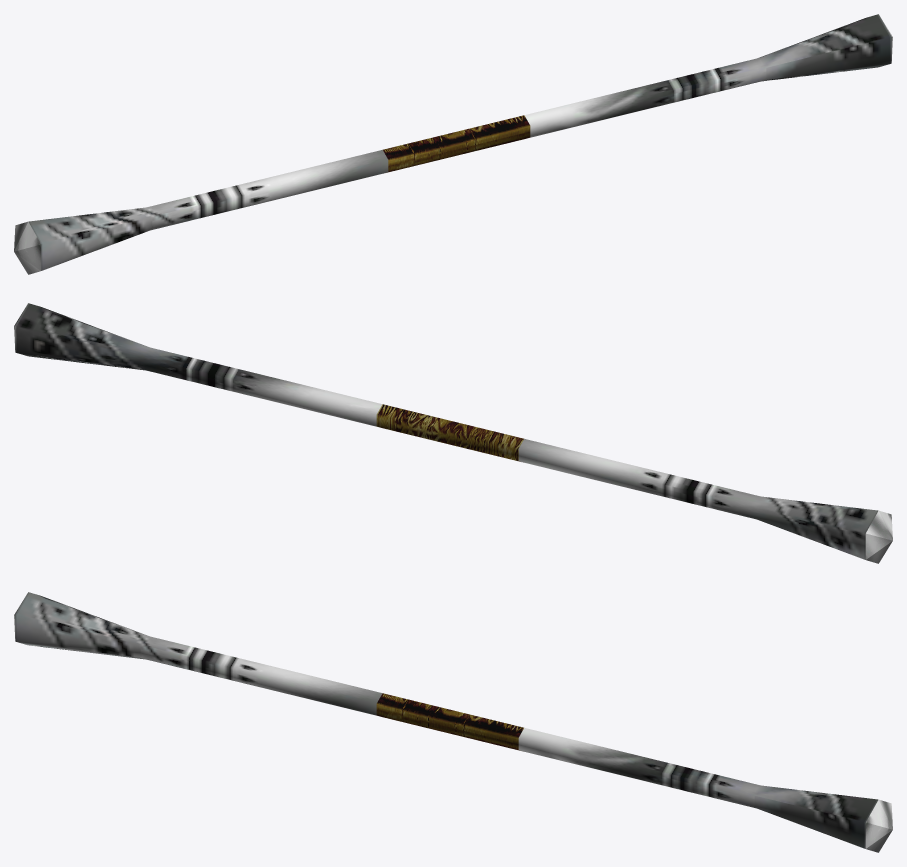
The picture shows the model from 3 angles, top to bottom: view 1: azimuth 30°, elevation 25°; view 2: azimuth 150°, elevation 25°; view 3: azimuth 330°, elevation 25°; orthographic projection.
Parts seen in each view (by area): view 1: it10520; view 2: it10520; view 3: it10520.
Boxes of the visible parts, x1,y1,x2,y2 form: it10520: [14, 14, 892, 274]; it10520: [14, 303, 892, 563]; it10520: [14, 592, 892, 852].
Size of the model in its own units: 6.22 by 0.3608 by 0.3188.
Materials: 2 (2 with a texture image).
